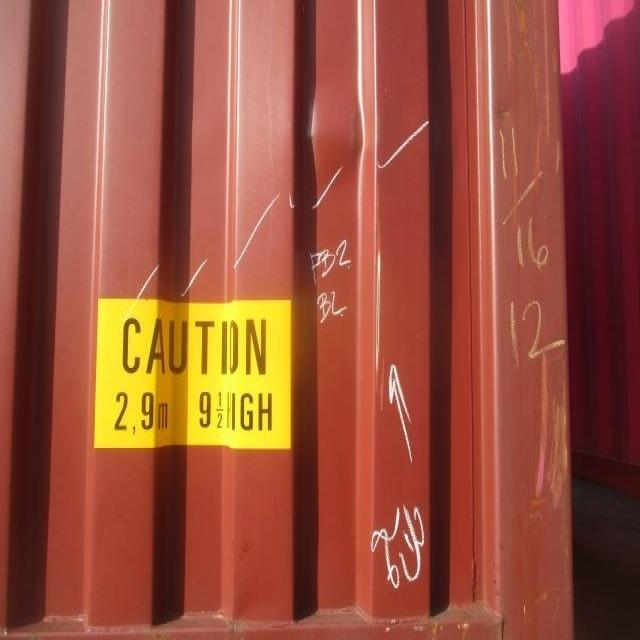dent: (290, 57, 382, 225)
